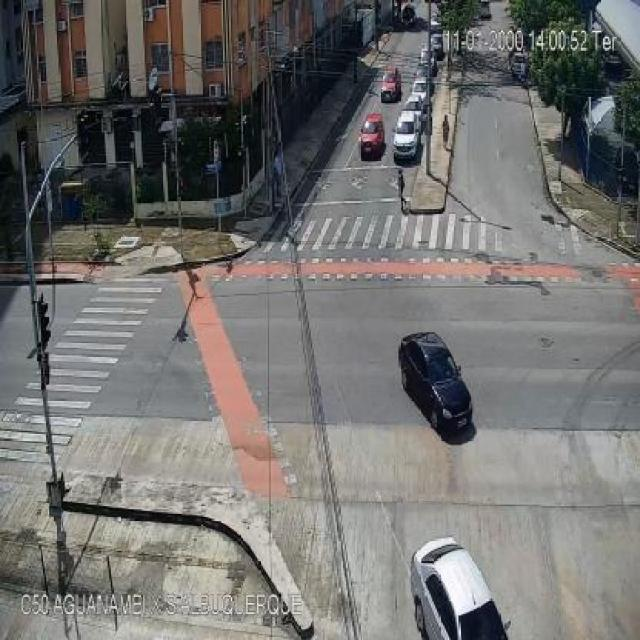Car: (408, 536, 511, 638), (398, 332, 474, 440), (341, 107, 396, 163), (394, 104, 420, 161), (408, 75, 432, 108), (380, 67, 401, 102), (509, 52, 528, 82), (429, 28, 443, 58)
